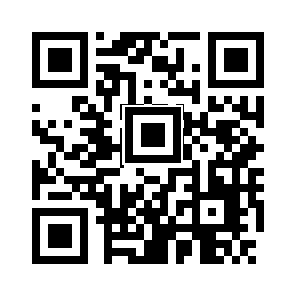QR_CODE: (22, 24, 271, 273)
